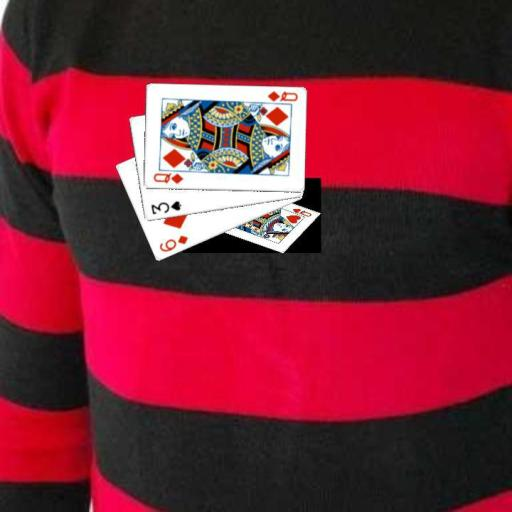3S: (148, 198, 182, 216)
6D: (156, 232, 189, 254)
QD: (150, 170, 184, 186), (264, 88, 299, 103)
